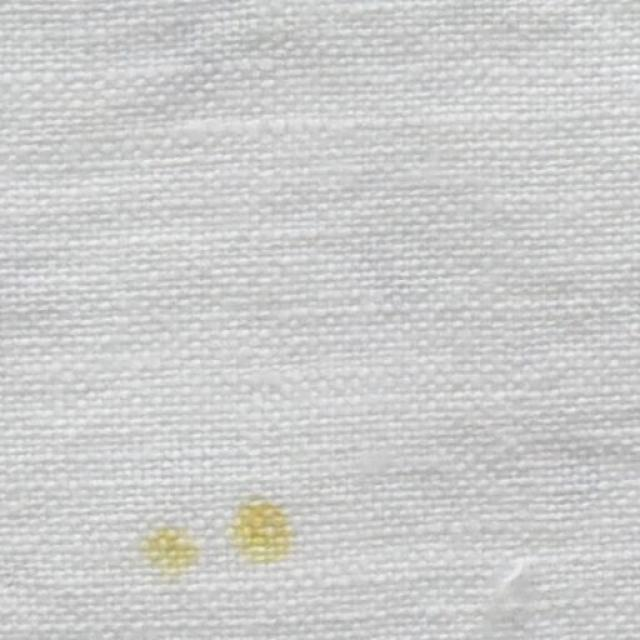Knot: (486, 551, 536, 609)
Stain: (244, 501, 288, 560), (154, 524, 202, 572)
